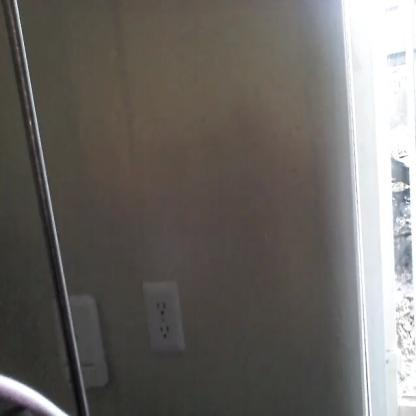OUTLET: (146, 282, 184, 352)
